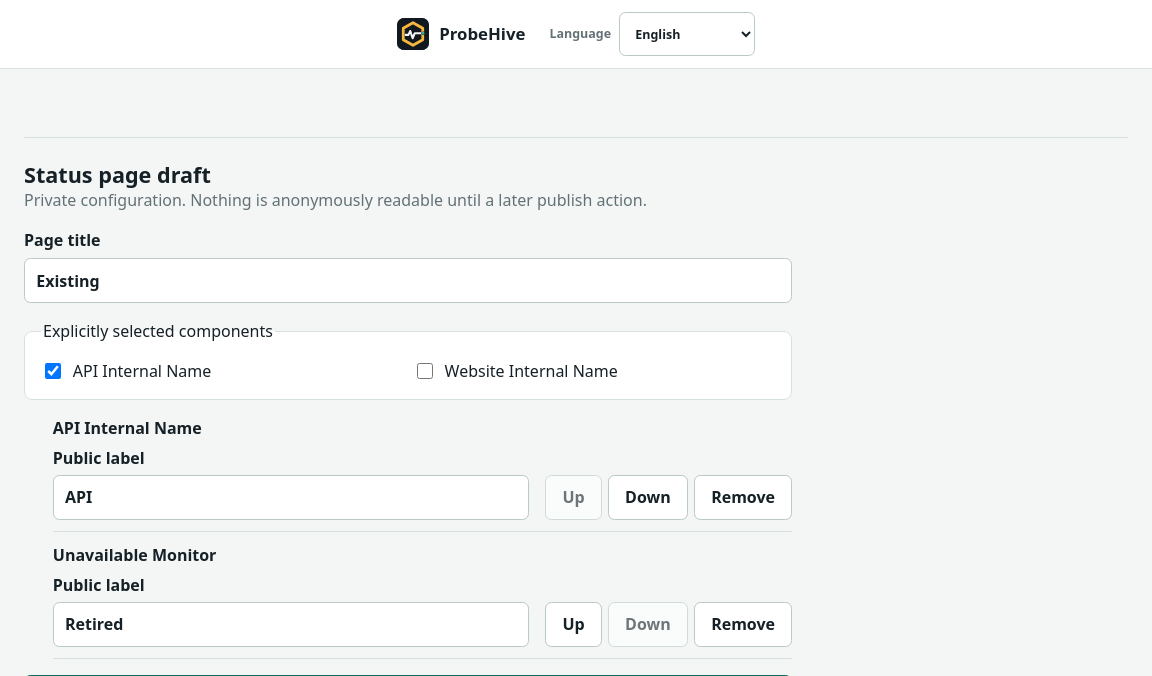
Scenario: removes a component whose Monitor is no longer available
Click the button with aria-label "Remove Retired" at [743, 624], box [694,602,792,647]
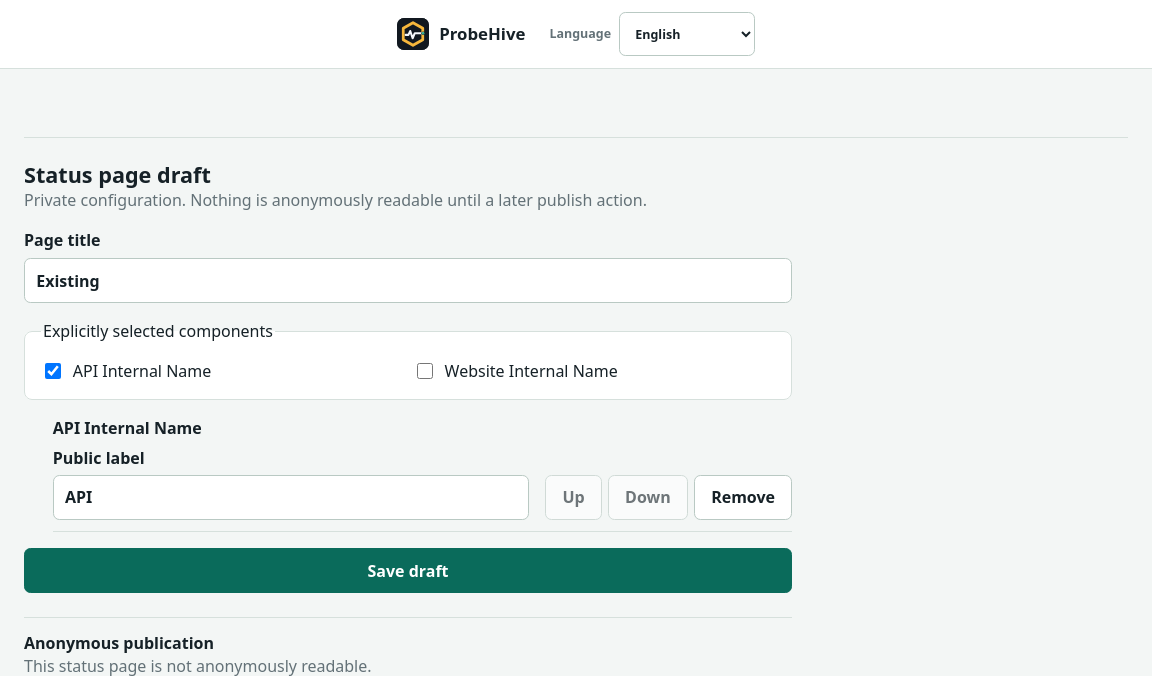
Click the button "Save draft" at [408, 571], box [24,548,792,594]
(page scrolled)
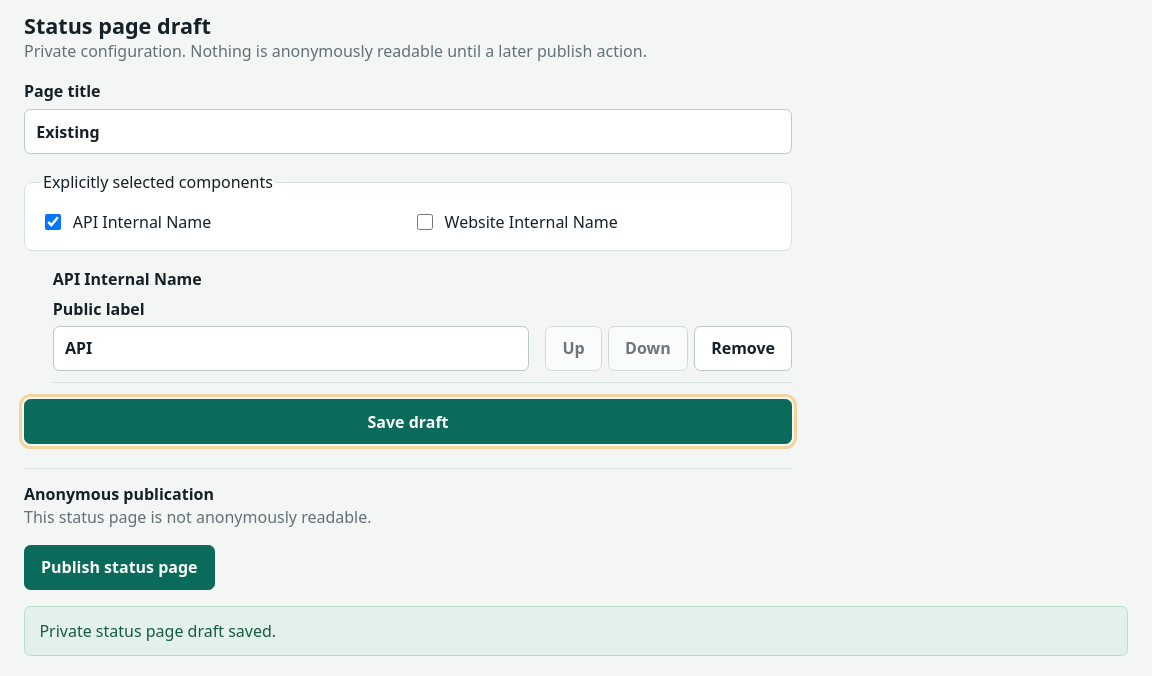
Now the text "Private status page draft saved." is shown, box [24,606,1128,656]
